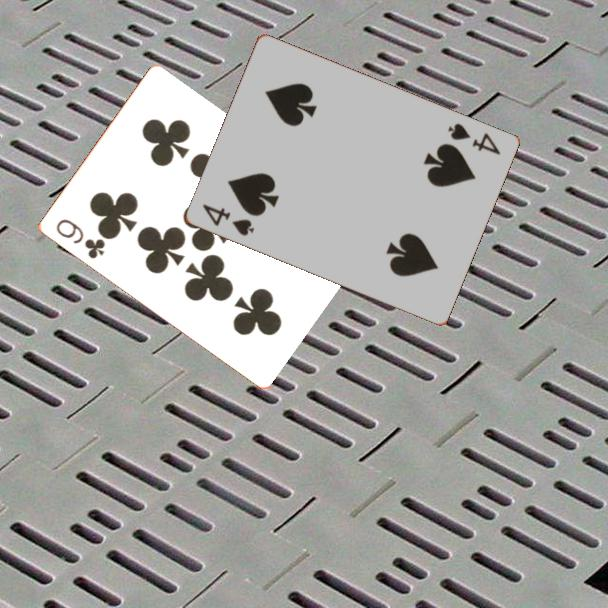c09: (52, 215, 108, 262)
s04: (443, 120, 503, 158), (199, 201, 257, 239)
